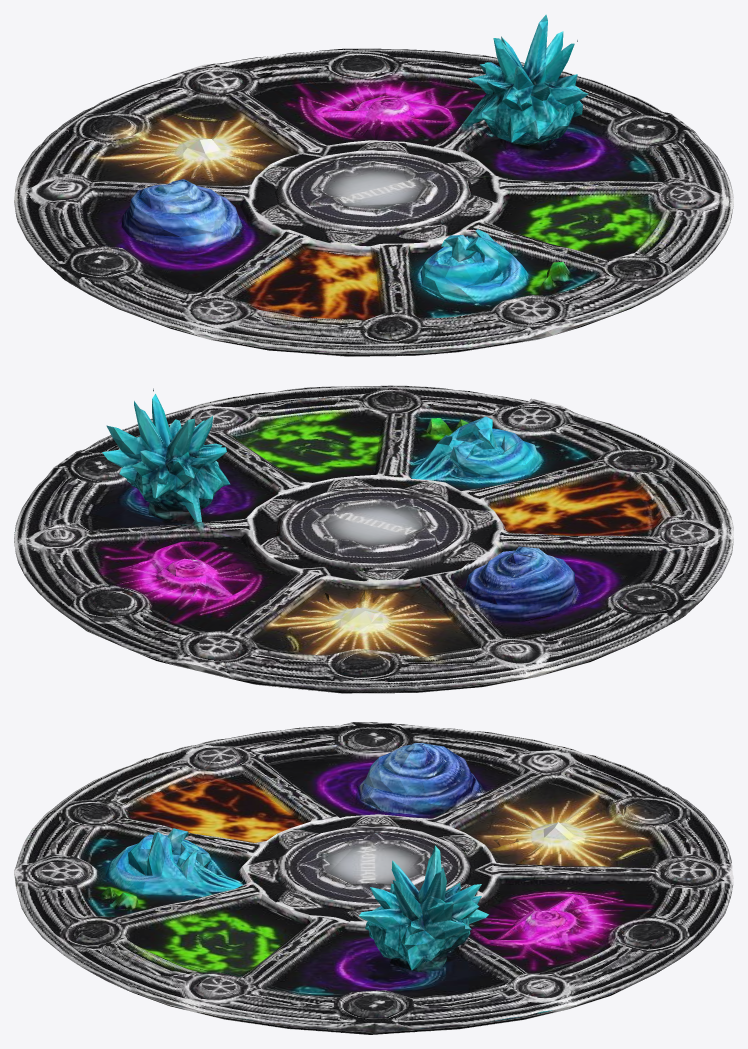
File: circle_elemental_platform_lod0.glb
3 renders of one model, top to bottom at view 1: azimuth 30°, elevation 25°; view 2: azimuth 150°, elevation 25°; view 3: azimuth 270°, elevation 25°, orthographic.
Parts seen in each view (by area): view 1: circle_elemental_platform_lod0; view 2: circle_elemental_platform_lod0; view 3: circle_elemental_platform_lod0.
Boxes of the visible parts, x1,y1,x2,y2 form: circle_elemental_platform_lod0: (14, 14, 733, 356); circle_elemental_platform_lod0: (14, 385, 733, 693); circle_elemental_platform_lod0: (14, 722, 733, 1034).
Size of the model in its own units: 1.59 by 0.2974 by 1.59.
1 material, 1 textured.
